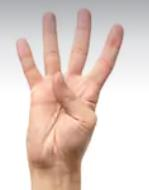right: (10, 7, 127, 172)
